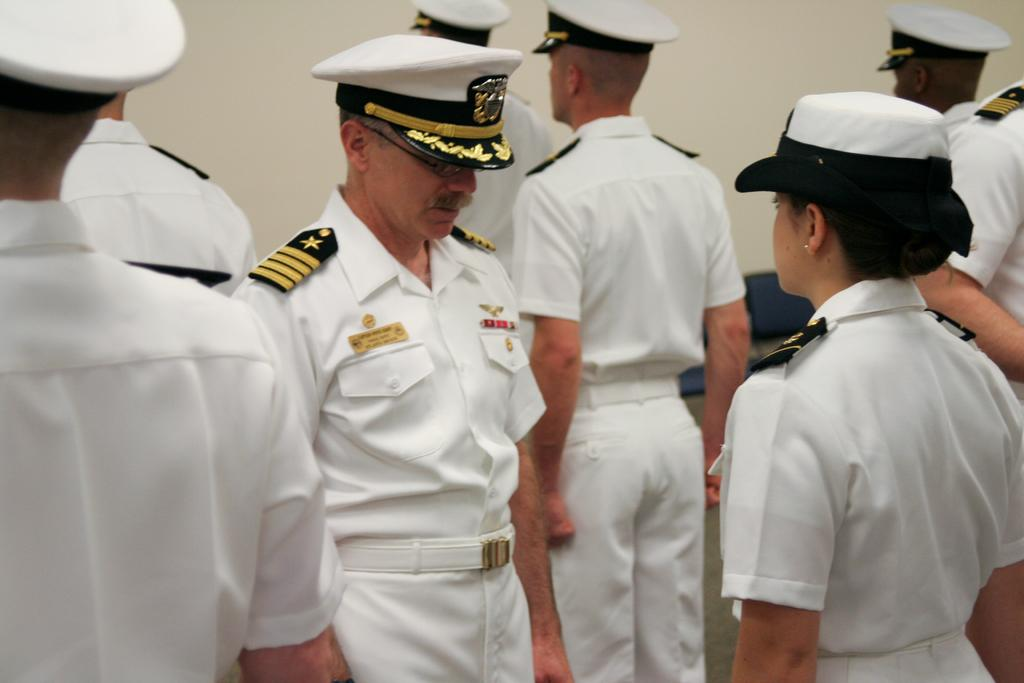Hat: (310, 31, 524, 173), (732, 91, 952, 194), (0, 0, 184, 110), (876, 4, 1010, 73), (533, 0, 679, 54), (398, 0, 508, 46)
